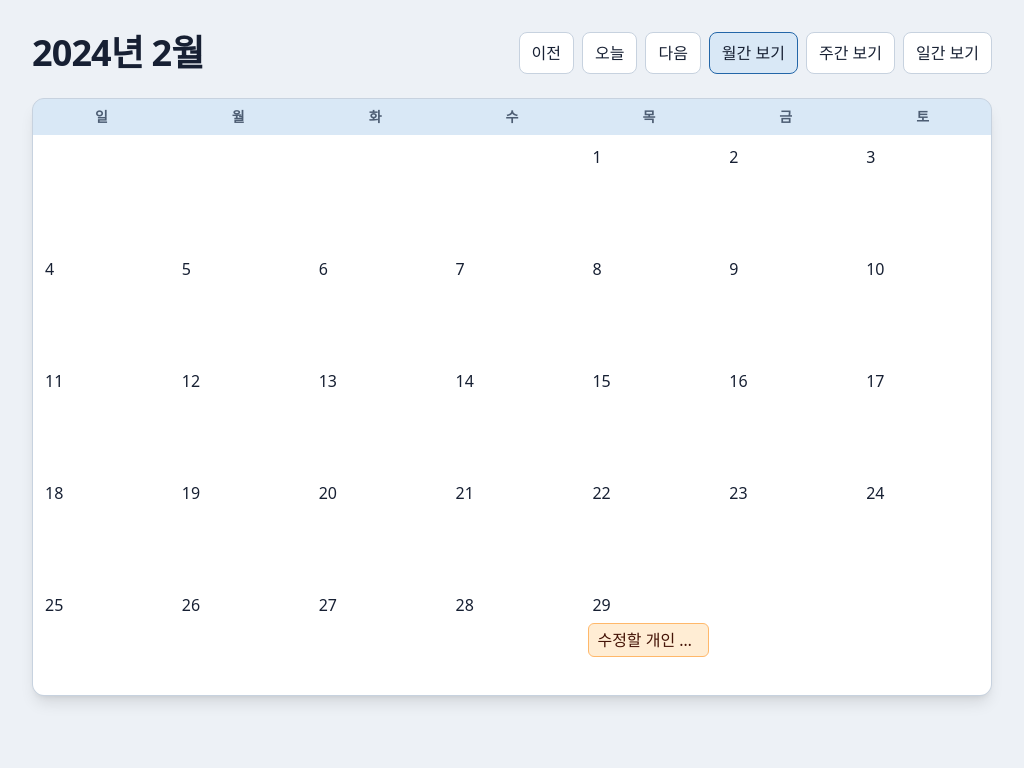
ScheduleCalendar › asks before cancellation, removes a cancelled schedule, and restores focus
Click the button "수정할 개인 일정 · 개인".
click(649, 640)  # box x1=588 y1=623 x2=709 y2=657
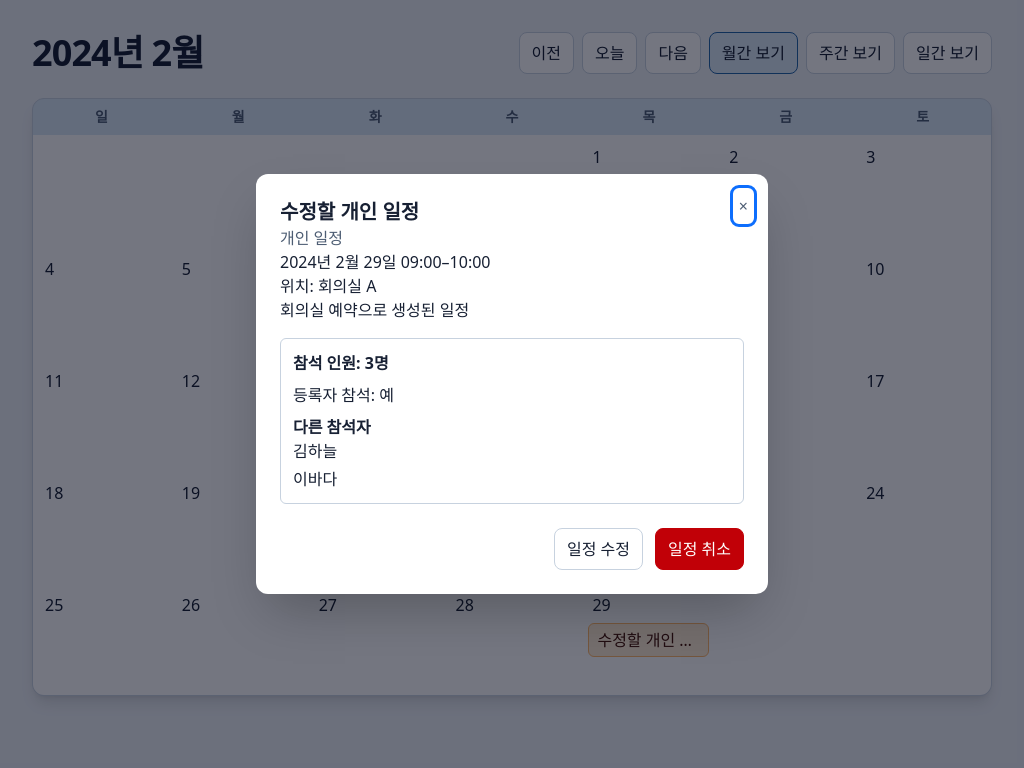
Click the button "일정 취소".
click(700, 549)  # box x1=655 y1=528 x2=744 y2=570
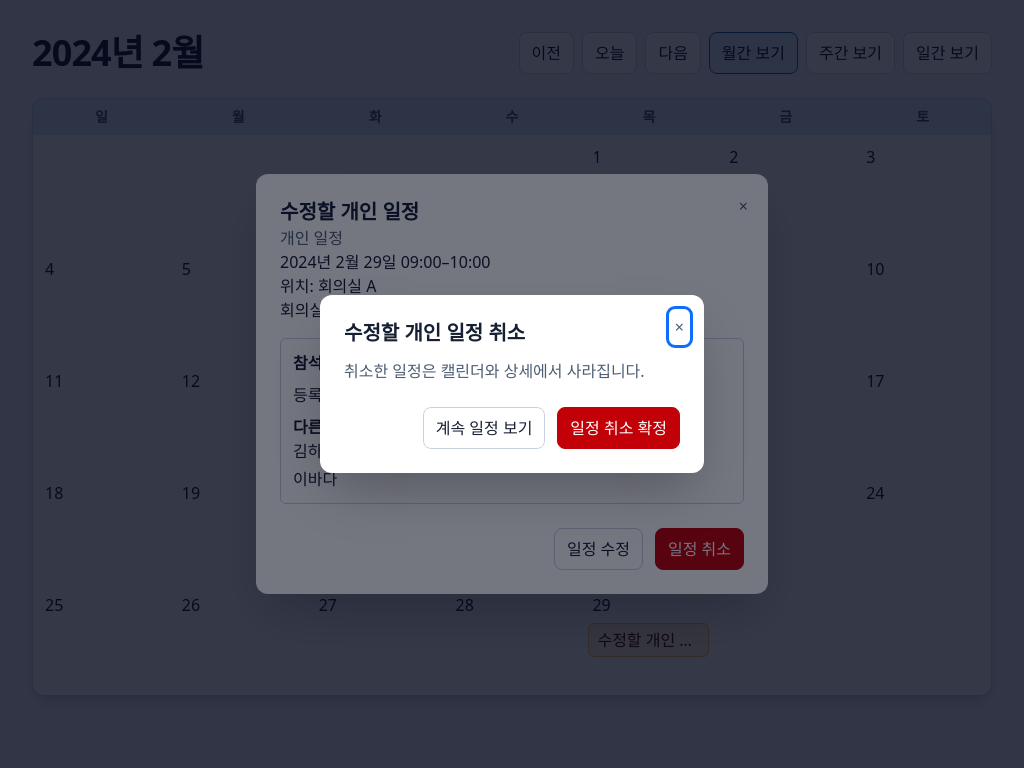
Now the dialog "수정할 개인 일정 취소" is shown, box x1=320 y1=295 x2=704 y2=473
Click the button "일정 취소 확정".
click(619, 428)  # box x1=557 y1=407 x2=680 y2=449
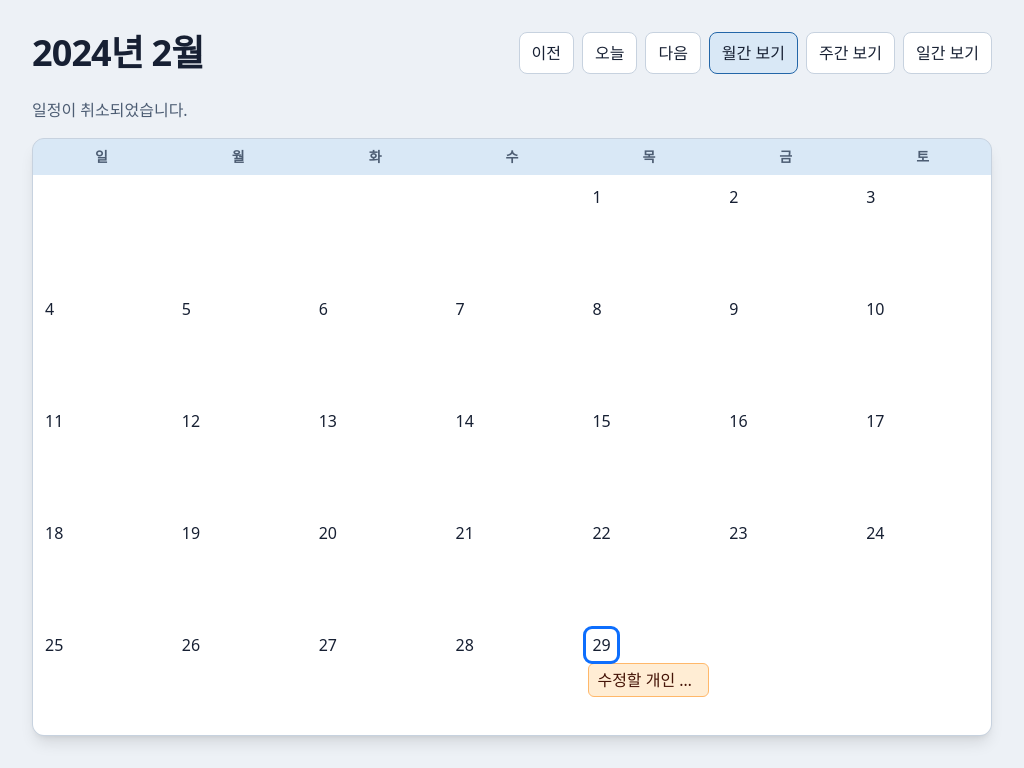
Now the text "일정이 취소되었습니다." is shown, box x1=32 y1=99 x2=188 y2=121
